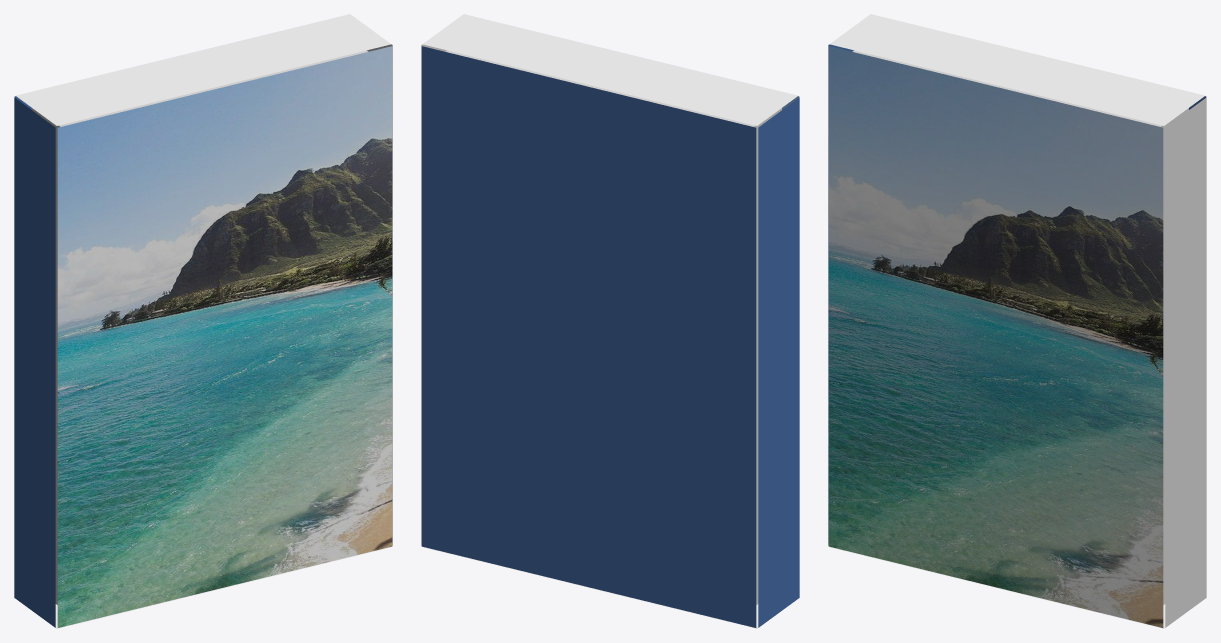
Rendered from hawaï5.0.glb.
3 views of the same model, side by side, from view 1: azimuth 30°, elevation 25°; view 2: azimuth 150°, elevation 25°; view 3: azimuth 330°, elevation 25° (orthographic).
Visible parts, largest first — view 1: Livre_Couverture_Avant, Livre_Dos, Tranche_Haut, Livre_Pages, Tranche_Droite; view 2: Livre_Couverture_Arriere, Livre_Dos, Tranche_Haut, Livre_Pages, Tranche_Droite; view 3: Livre_Couverture_Avant, Tranche_Droite, Tranche_Haut, Livre_Pages, Livre_Dos.
Boxes of the visible parts, x1,y1,x2,y2 form: Livre_Couverture_Avant: [57, 46, 392, 627]; Livre_Dos: [14, 97, 55, 627]; Tranche_Haut: [16, 14, 390, 125]; Livre_Pages: [32, 50, 368, 604]; Tranche_Droite: [367, 44, 392, 545]; Livre_Couverture_Arriere: [421, 46, 756, 627]; Livre_Dos: [758, 97, 799, 627]; Tranche_Haut: [423, 14, 797, 125]; Livre_Pages: [445, 50, 781, 604]; Tranche_Droite: [421, 44, 446, 545]; Livre_Couverture_Avant: [828, 46, 1163, 627]; Tranche_Droite: [1165, 97, 1206, 627]; Tranche_Haut: [830, 14, 1204, 125]; Livre_Pages: [852, 50, 1188, 604]; Livre_Dos: [828, 44, 853, 545].
Size of the model in its own units: 1.41 by 2.01 by 0.31.
7 materials, 1 textured.
